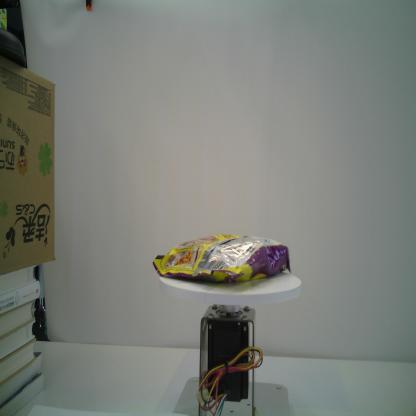Instant Noodles: (152, 232, 293, 286)
